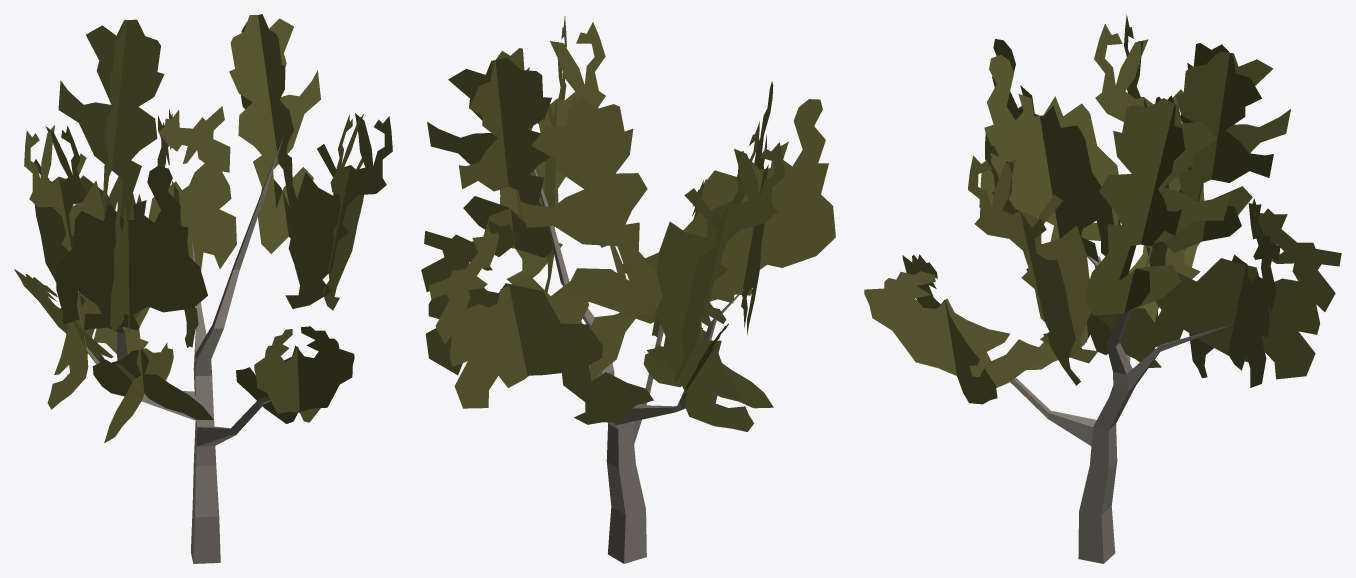
Rendered from Tree2.fbx.
3 renders of one model, left to right at view 1: azimuth 30°, elevation 25°; view 2: azimuth 150°, elevation 25°; view 3: azimuth 270°, elevation 25°, orthographic.
Visible parts, largest first — view 1: Flat_half_tree.002; view 2: Flat_half_tree.002; view 3: Flat_half_tree.002.
Part boxes in pixels (x1,y1,x2,y2): Flat_half_tree.002: (14, 14, 392, 563); Flat_half_tree.002: (421, 16, 835, 563); Flat_half_tree.002: (864, 14, 1341, 563).
Bounding box in the file's own units: 3.36 × 4.95 × 4.26.
